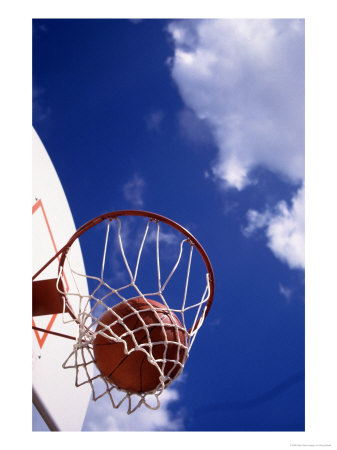basketball: (94, 298, 186, 395)
